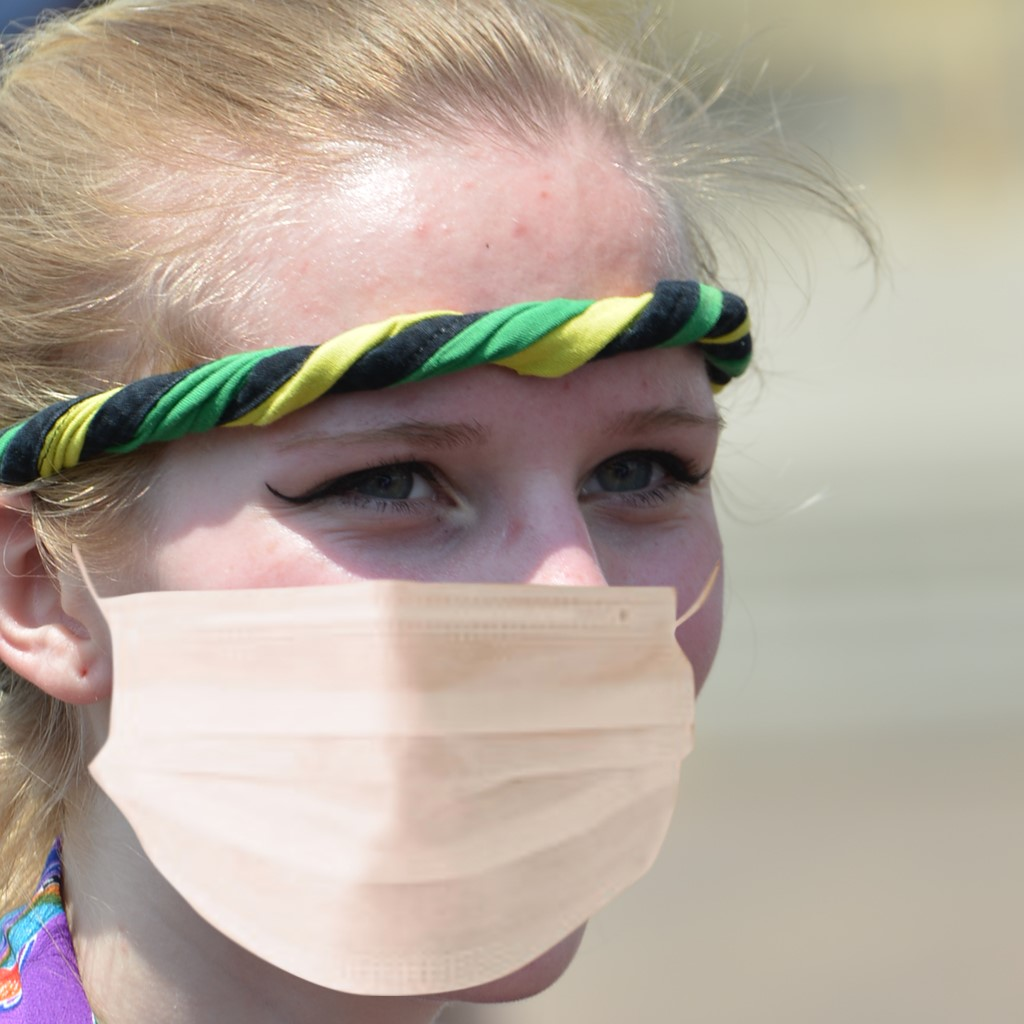con_mascara: (51, 89, 761, 1005)
